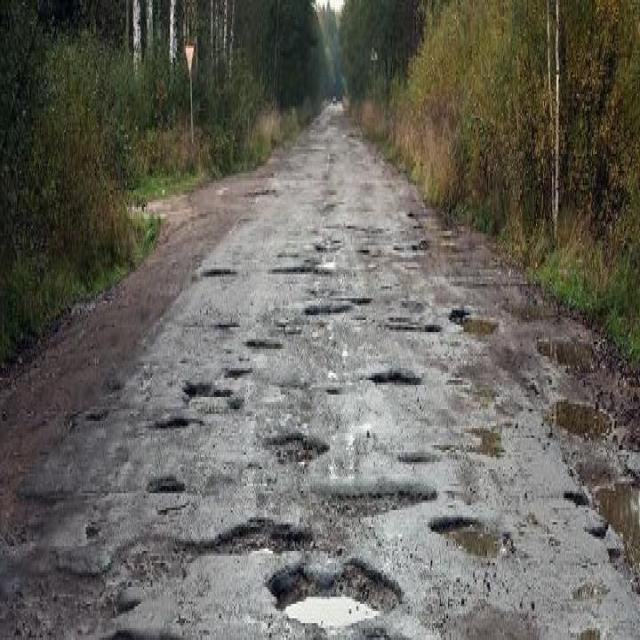Pothole: (2, 557, 144, 639), (269, 554, 409, 629), (564, 465, 640, 595), (428, 511, 514, 569), (301, 480, 439, 516), (262, 432, 334, 464), (449, 306, 501, 338), (184, 379, 234, 408), (369, 367, 425, 389), (147, 473, 187, 502), (306, 297, 352, 321), (157, 413, 197, 437)
